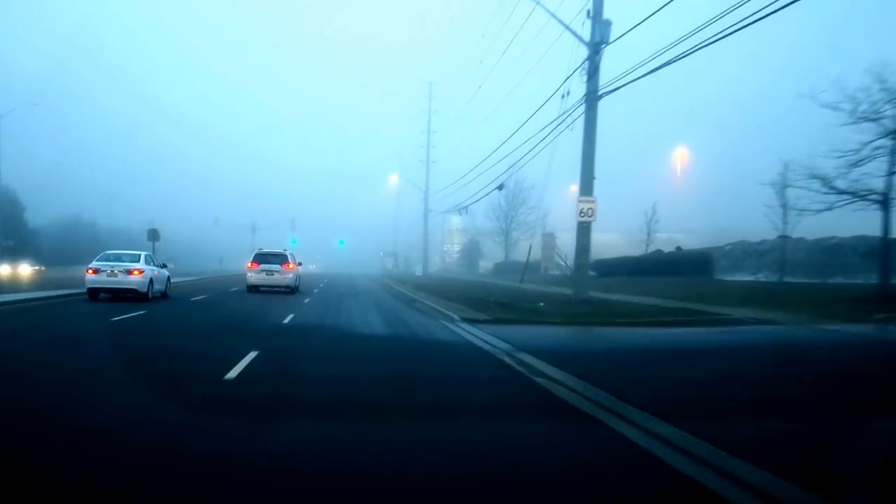car: (84, 249, 172, 302), (243, 246, 304, 294)
